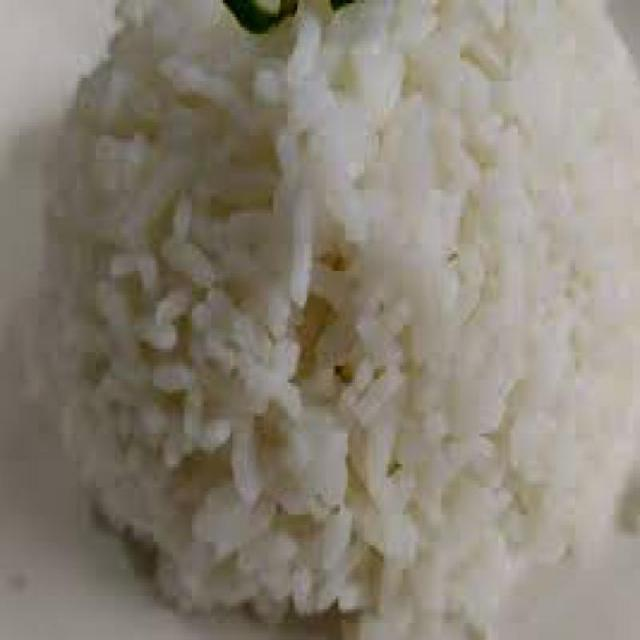Chicken -Chicken Inasal-: (45, 0, 586, 634)
